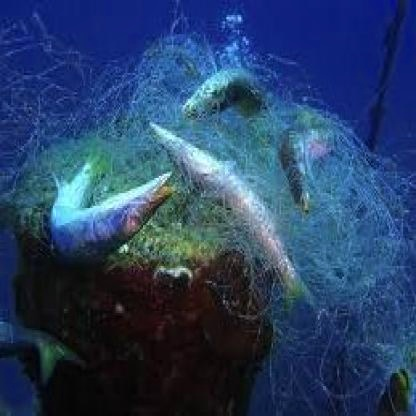net: (38, 36, 416, 340)
